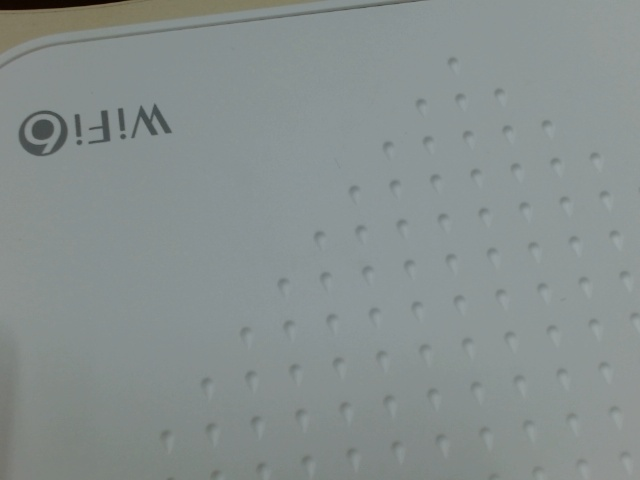AK_ZTEWIFI6: (16, 99, 178, 162)
